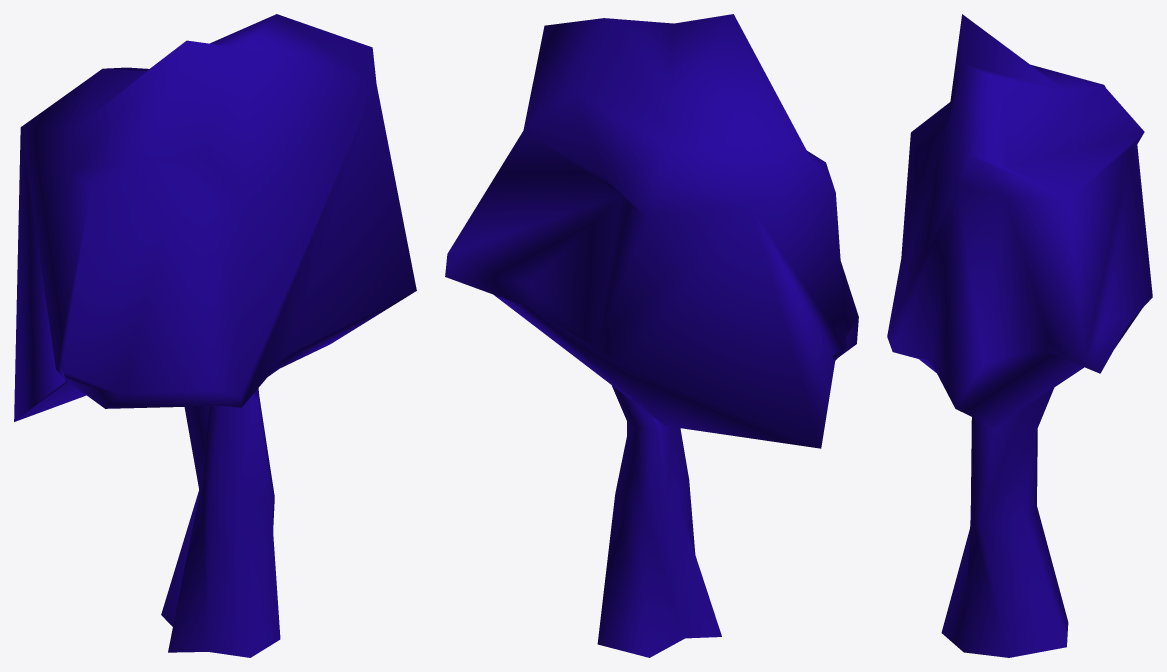
Rendered from CG_Model_TownExt_Tree2_Mar24_ChrisMcknight.FBX.
The picture shows the model from 3 angles, left to right: view 1: azimuth 30°, elevation 25°; view 2: azimuth 150°, elevation 25°; view 3: azimuth 270°, elevation 25°; orthographic projection. The views are drawn at different scales.
Parts seen in each view (by area): view 1: Cylinder035; view 2: Cylinder035; view 3: Cylinder035.
Part boxes in pixels (x1,y1,x2,y2): Cylinder035: (14,14,416,657); Cylinder035: (445,14,858,657); Cylinder035: (887,14,1152,657).
Size of the model in its own units: 50.23 by 83.51 by 33.83.
